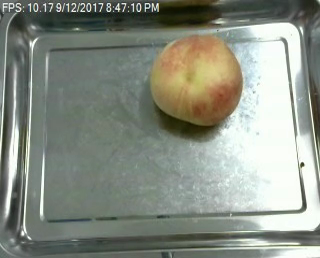Peach: (149, 31, 242, 125)
